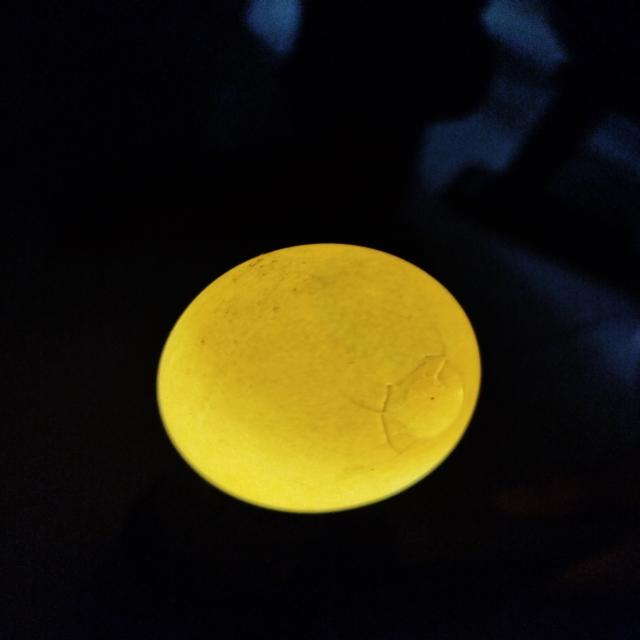Rachadura: (382, 356, 464, 452)
